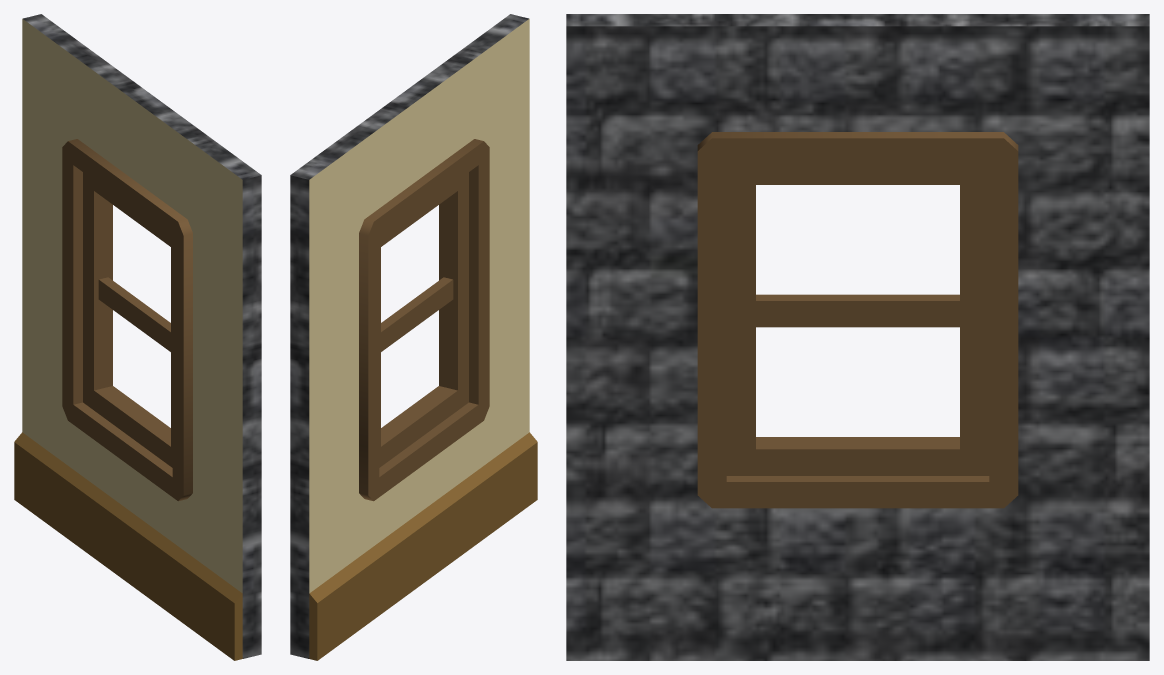
File: kit_Wall Window Square D.glb
The picture shows the model from 3 angles, left to right: view 1: azimuth 30°, elevation 25°; view 2: azimuth 150°, elevation 25°; view 3: azimuth 270°, elevation 25°; orthographic projection. The views are drawn at different scales.
Visible parts, largest first — view 1: wall; view 2: wall; view 3: wall.
Part boxes in pixels (bbox=[...]): wall: bbox=[14, 14, 261, 660]; wall: bbox=[290, 14, 537, 660]; wall: bbox=[566, 14, 1149, 660].
Size of the model in its own units: 0.2 by 2.4 by 2.
4 materials, 1 textured.
